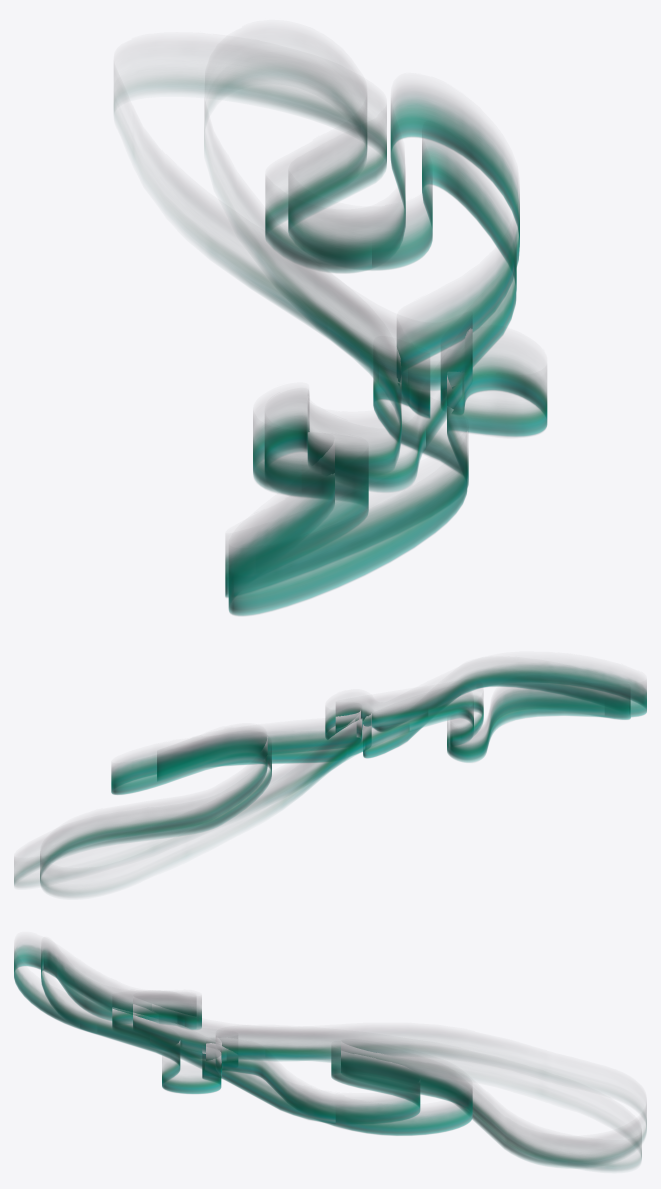
File: aurora.glb
3 views of the same model, one above another, from view 1: azimuth 30°, elevation 25°; view 2: azimuth 150°, elevation 25°; view 3: azimuth 270°, elevation 25° (orthographic). The views are drawn at different scales.
Parts seen in each view (by area): view 1: aurora; view 2: aurora; view 3: aurora.
Part boxes in pixels (x1,y1,x2,y2): aurora: (114, 42, 547, 615); aurora: (14, 661, 646, 896); aurora: (14, 941, 646, 1171).
Size of the model in its own units: 9656 by 2316 by 15376.
1 material, 1 textured.
